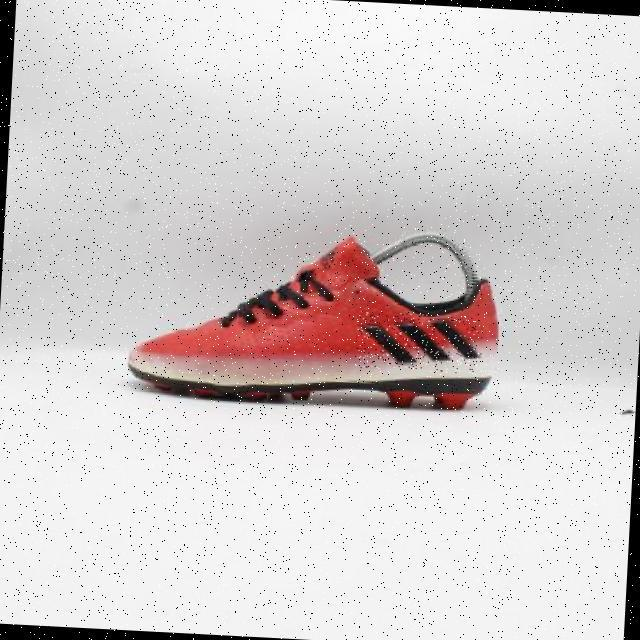Adidas: (355, 311, 485, 374)
